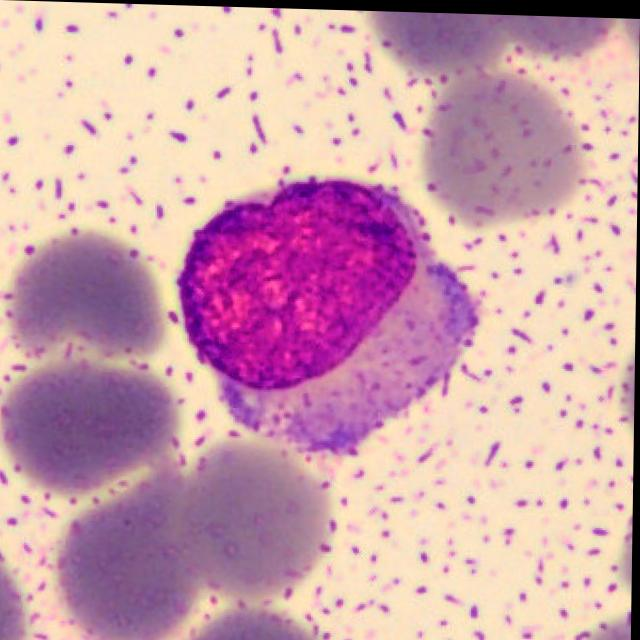Mieloblasto: (178, 173, 480, 452)
